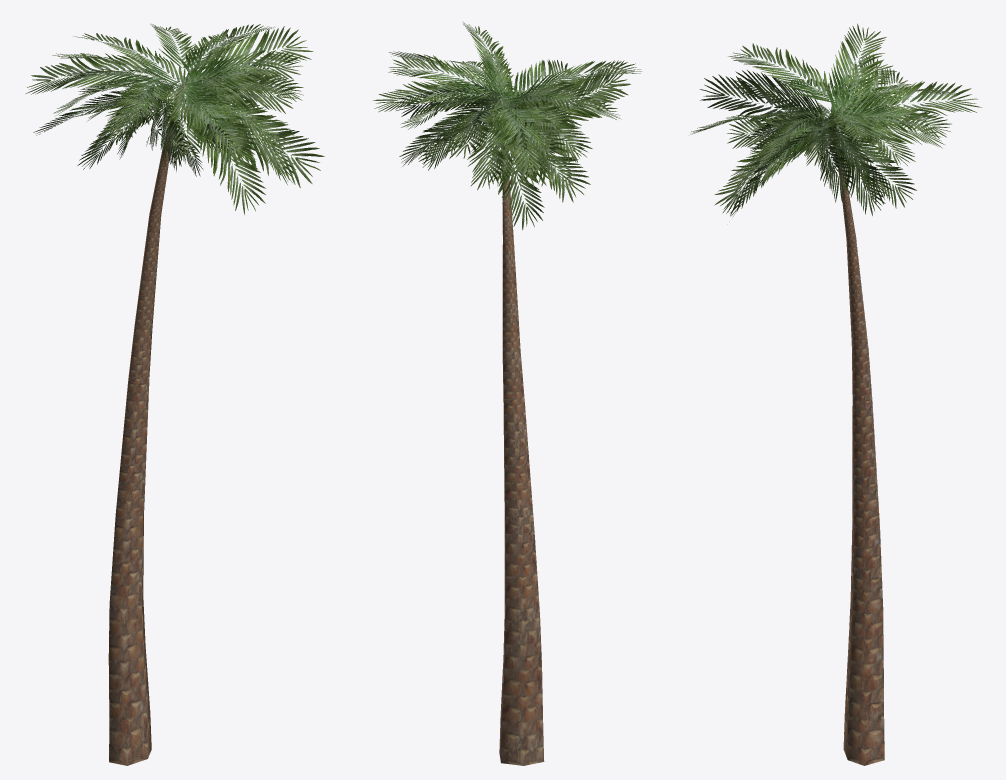
The model's file is palm3.fbx.
3 views of the same model, side by side, from view 1: azimuth 30°, elevation 25°; view 2: azimuth 150°, elevation 25°; view 3: azimuth 270°, elevation 25° (orthographic). The views are drawn at different scales.
Parts seen in each view (by area): view 1: list.015, tree; view 2: list.015, tree; view 3: list.015, tree.
Part boxes in pixels (<box>): list.015: <box>25,24,324,214</box>; tree: <box>108,84,183,765</box>; list.015: <box>373,21,641,230</box>; tree: <box>499,100,544,765</box>; list.015: <box>690,23,982,217</box>; tree: <box>831,118,884,765</box>.
Bounding box in the file's own units: 269 × 718 × 285.
